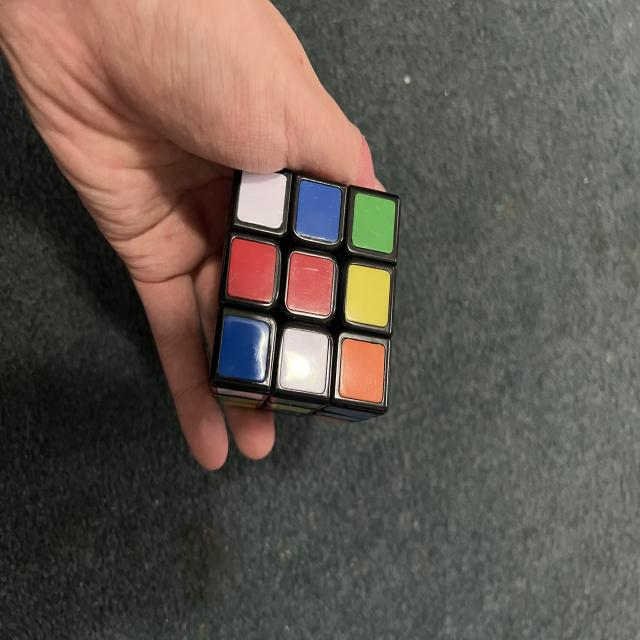blue: (216, 314, 273, 384), (294, 178, 343, 243)
center: (284, 251, 338, 320)
green: (349, 193, 398, 253)
orange: (338, 337, 386, 403)
red: (220, 236, 286, 307), (284, 252, 335, 317)
white: (274, 326, 334, 396), (235, 169, 289, 230)
yellow: (343, 262, 392, 328)
